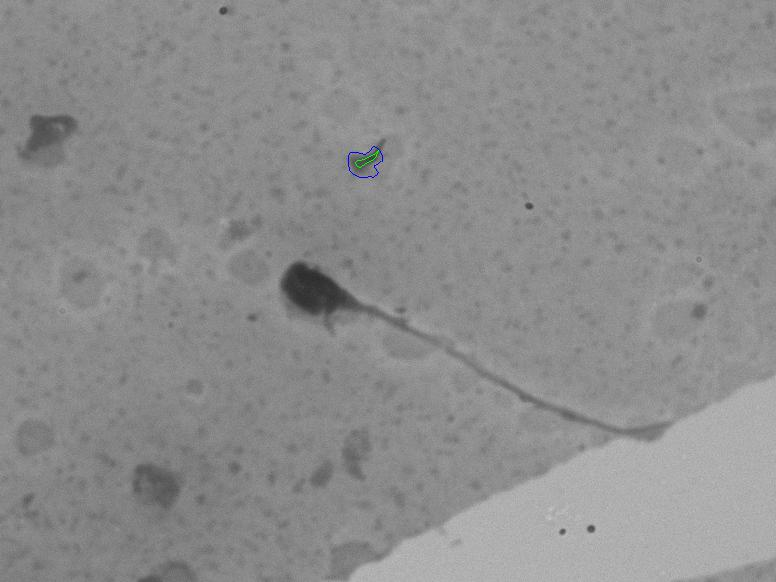Abnormal: (239, 253, 683, 495)
